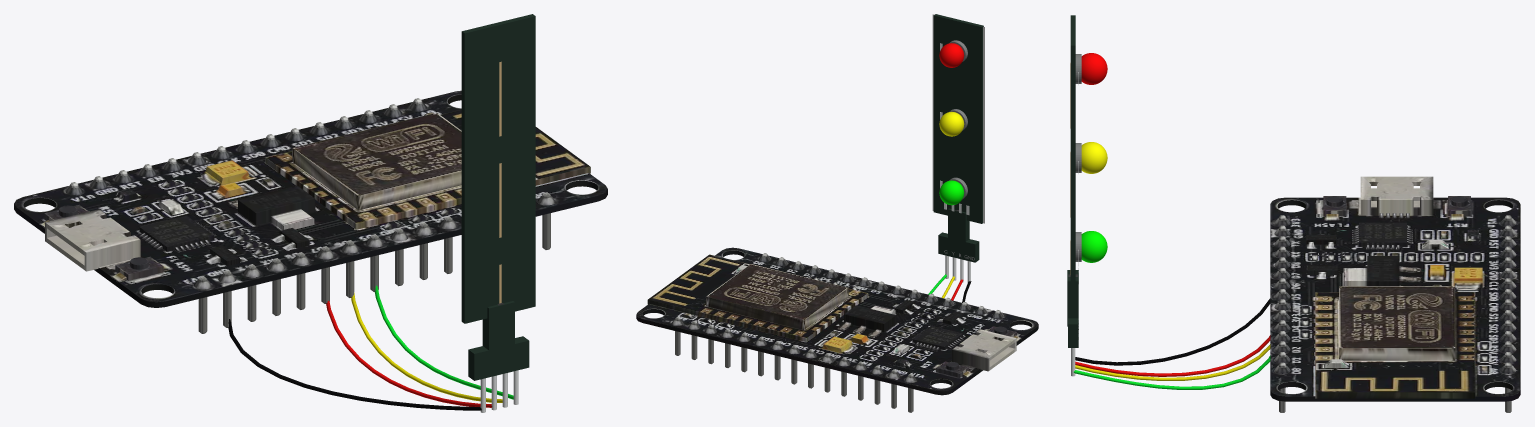
Rendered from traffic-light-esp8266.glb.
The picture shows the model from 3 angles, left to right: view 1: azimuth 30°, elevation 25°; view 2: azimuth 150°, elevation 25°; view 3: azimuth 270°, elevation 25°; orthographic projection. The views are drawn at different scales.
Parts seen in each view (by area): view 1: Cube.001_0, geometry_0, BézierCurve, geometry_12, geometry_11; view 2: Cube.001_0, geometry_0, geometry_12, geometry_11, Plane, geometry_10, geometry_4; view 3: Cube.001_0, BézierCurve, geometry_0, geometry_11, geometry_12, geometry_4, geometry_10.
Part boxes in pixels (x1,y1,x2,y2): Cube.001_0: (14,90,607,333); geometry_0: (461,14,535,323); BézierCurve: (228,285,513,410); geometry_12: (468,301,529,380); geometry_11: (480,61,518,412); Cube.001_0: (636,247,1038,412); geometry_0: (933,14,983,223); geometry_12: (938,208,979,262); geometry_11: (939,40,970,283); Plane: (932,14,984,223); geometry_10: (939,180,964,205); geometry_4: (939,43,964,67); Cube.001_0: (1270,176,1520,412); BézierCurve: (1073,298,1270,389); geometry_0: (1070,15,1075,300); geometry_11: (1068,54,1107,376); geometry_12: (1067,270,1078,347); geometry_4: (1081,53,1107,84); geometry_10: (1081,231,1107,262).
Bounding box in the file's own units: 8.31 × 6.75 × 7.75.
7 materials, 7 textured.
